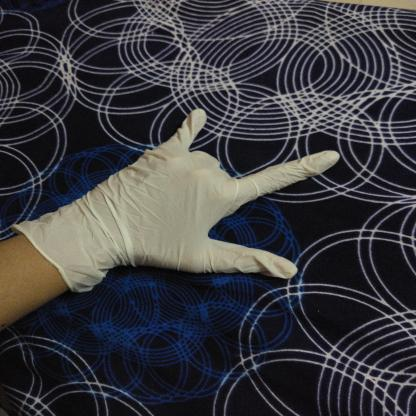gloved_hand: (14, 103, 342, 298)
